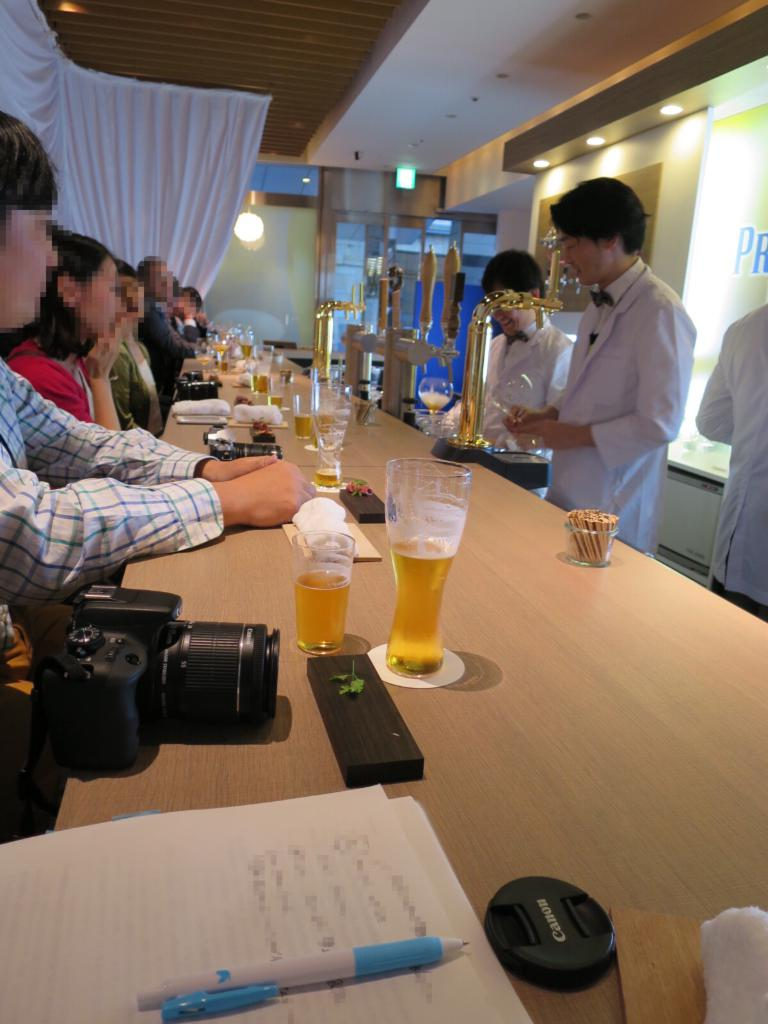Beer: (384, 531, 453, 677), (297, 562, 353, 651), (320, 457, 341, 485)
